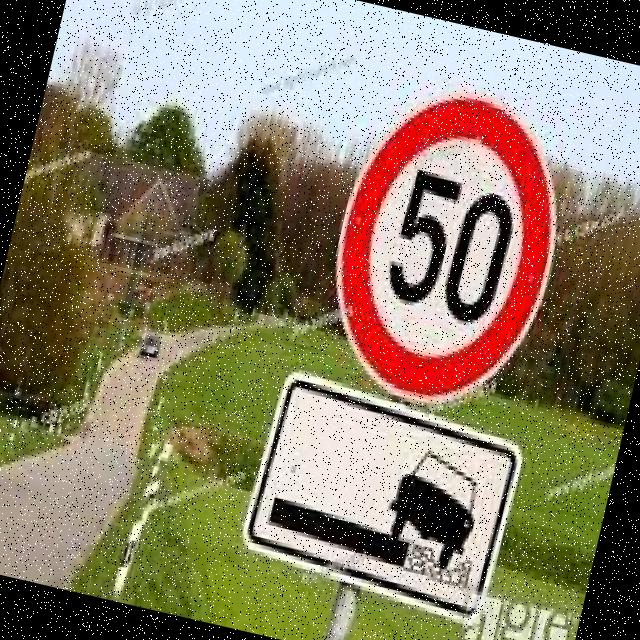speed_limit_50: (300, 66, 594, 434)
